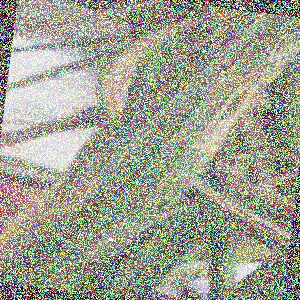Leaf_Blast: (10, 129, 137, 291)
